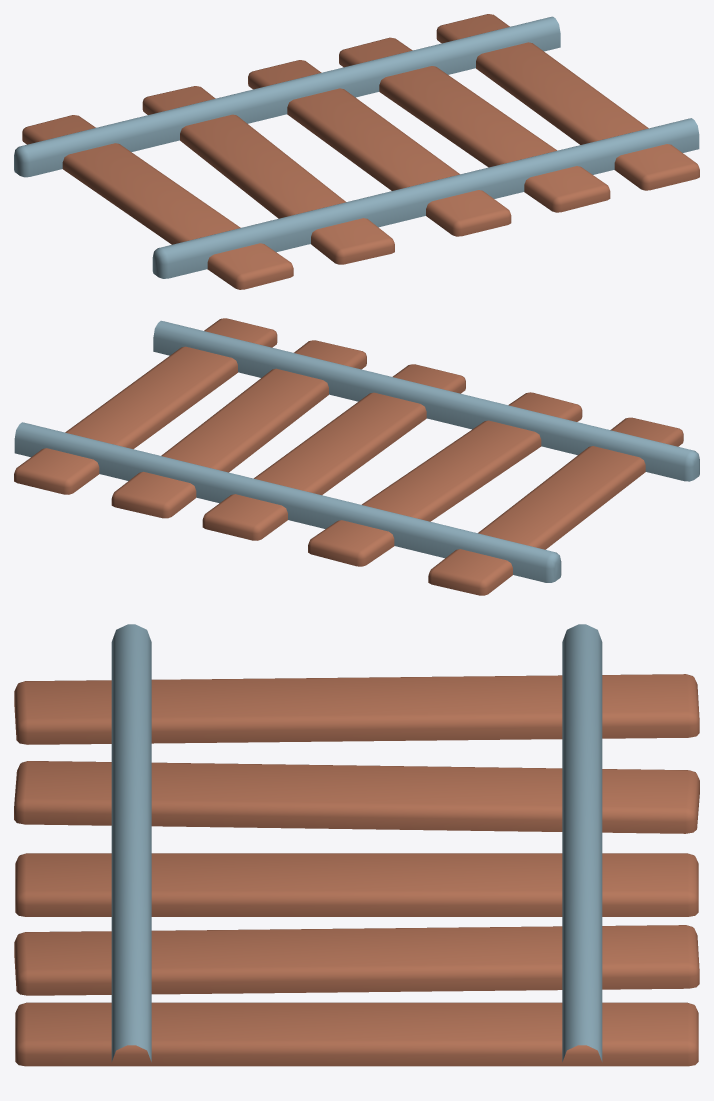
The model's file is Rail_End.glb.
3 views of the same model, one above another, from view 1: azimuth 30°, elevation 25°; view 2: azimuth 150°, elevation 25°; view 3: azimuth 270°, elevation 25° (orthographic). The views are drawn at different scales.
Visible parts, largest first — view 1: Rail_End; view 2: Rail_End; view 3: Rail_End.
Part boxes in pixels (x1,y1,x2,y2): Rail_End: (14, 14, 699, 289); Rail_End: (14, 318, 699, 595); Rail_End: (14, 624, 699, 1066).
Bounding box in the file's own units: 2.2 × 0.1013 × 1.5.
